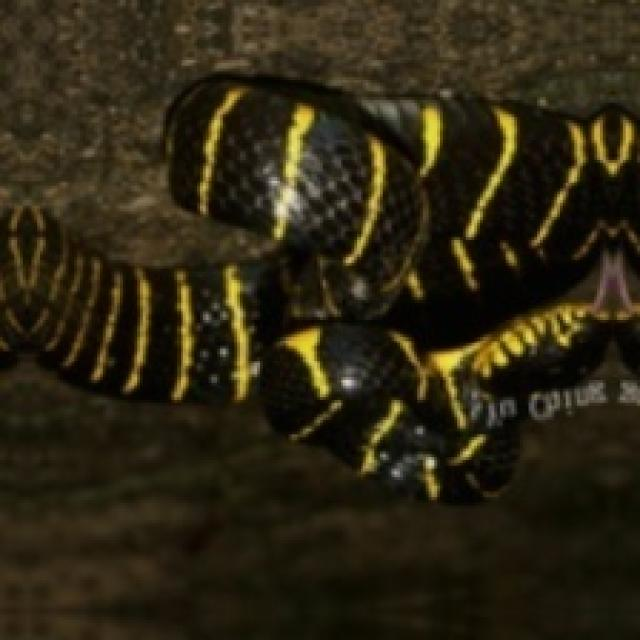mangrove cat snake: (0, 74, 637, 497)
